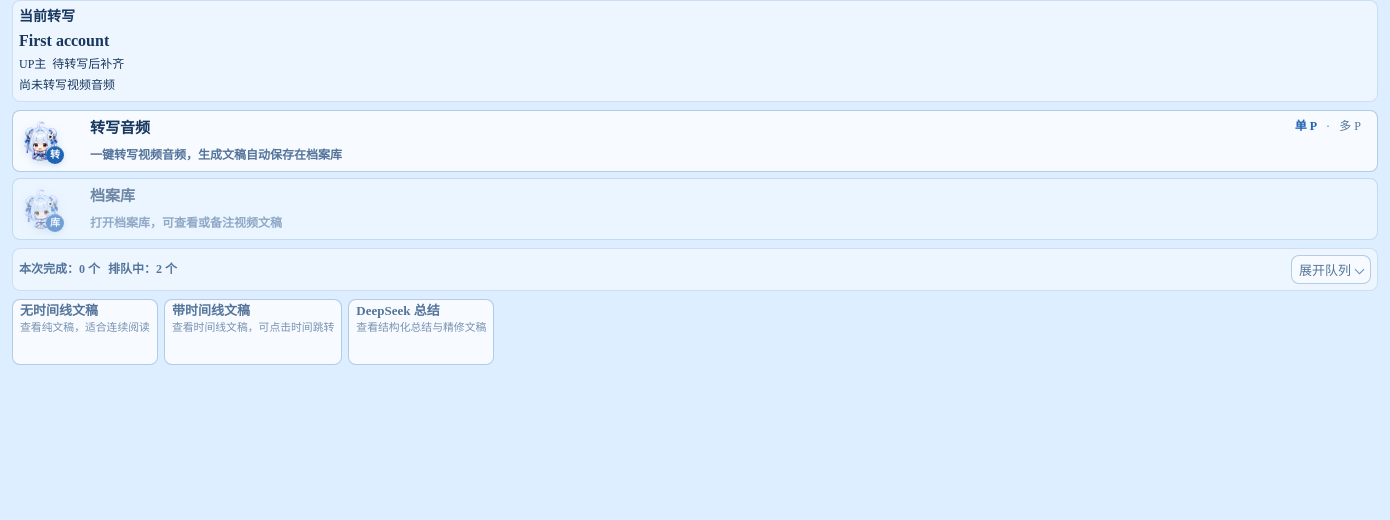
Test case: VideoNotesPanel transcription queue › keeps queue document export disabled when selected work spans accounts
Click the button with aria-label "展开转写队列" at (1331, 269), box top-left (1291, 255), bottom-right (1371, 284)
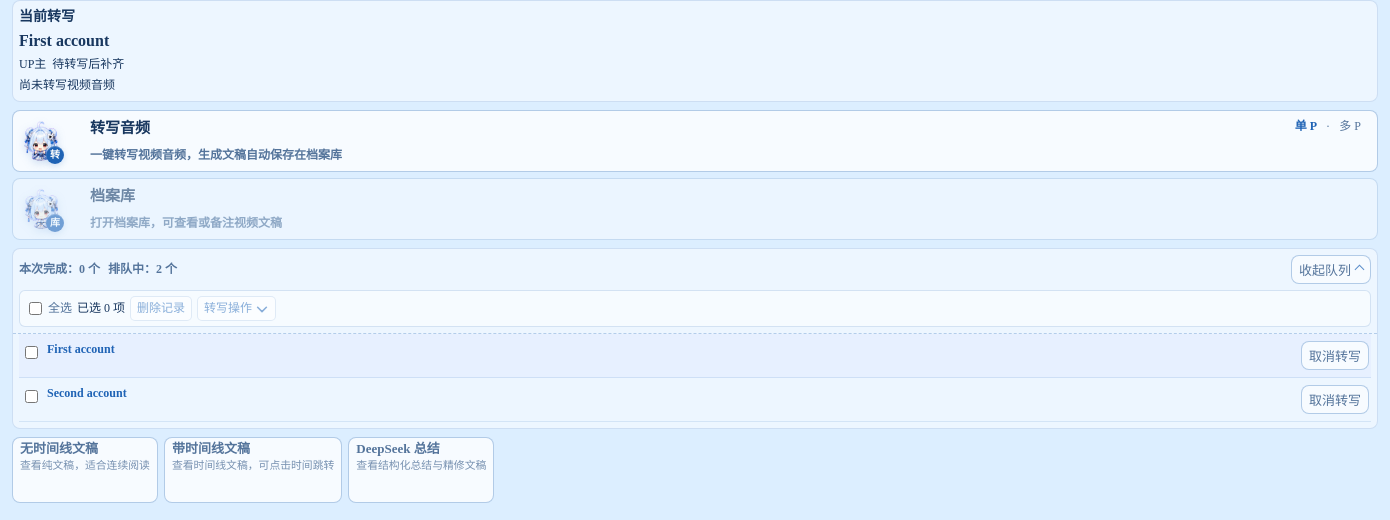
Click the checkbox named "选择 First account" at (32, 353), box top-left (25, 346), bottom-right (38, 359)
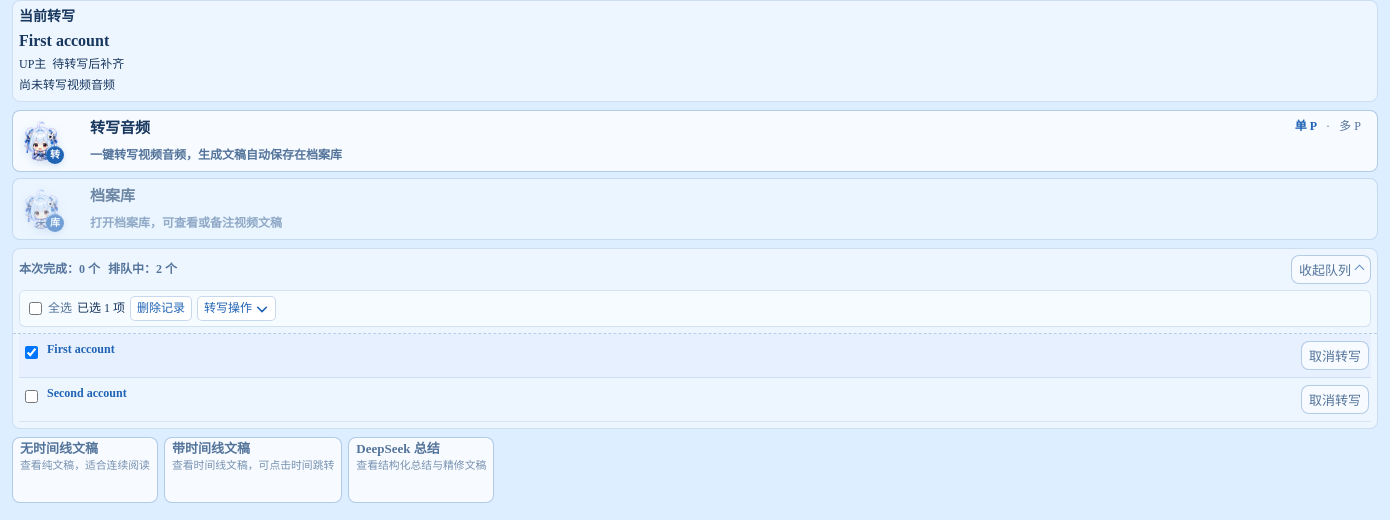
Click the checkbox named "选择 Second account" at (32, 397), box top-left (25, 390), bottom-right (38, 403)
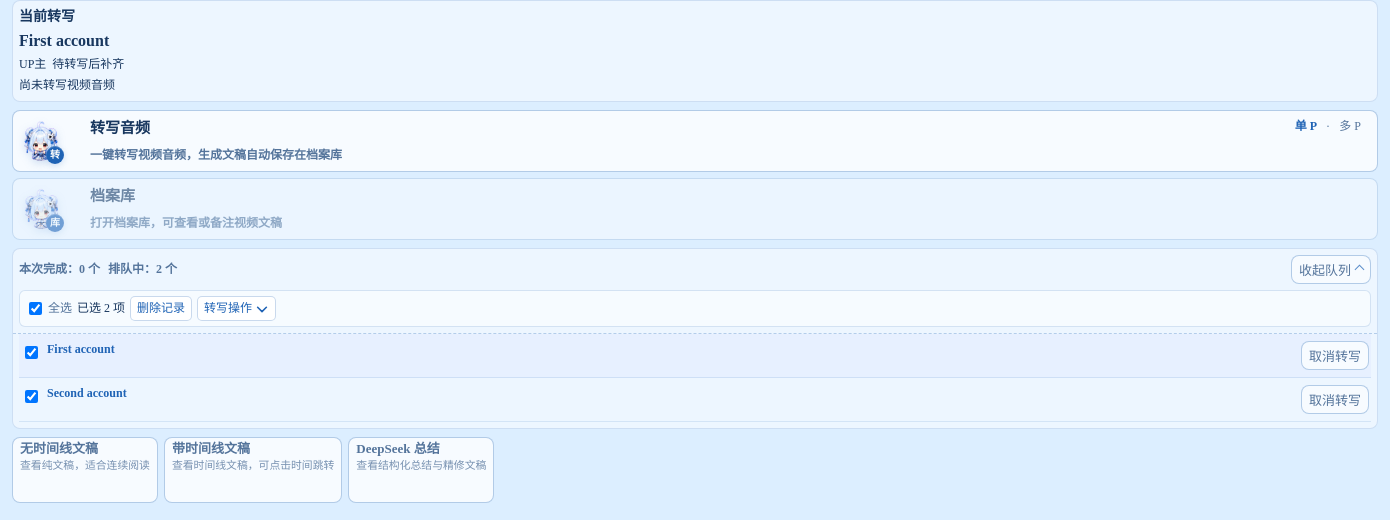
Click the button "转写操作" at (237, 309), box top-left (197, 296), bottom-right (276, 321)
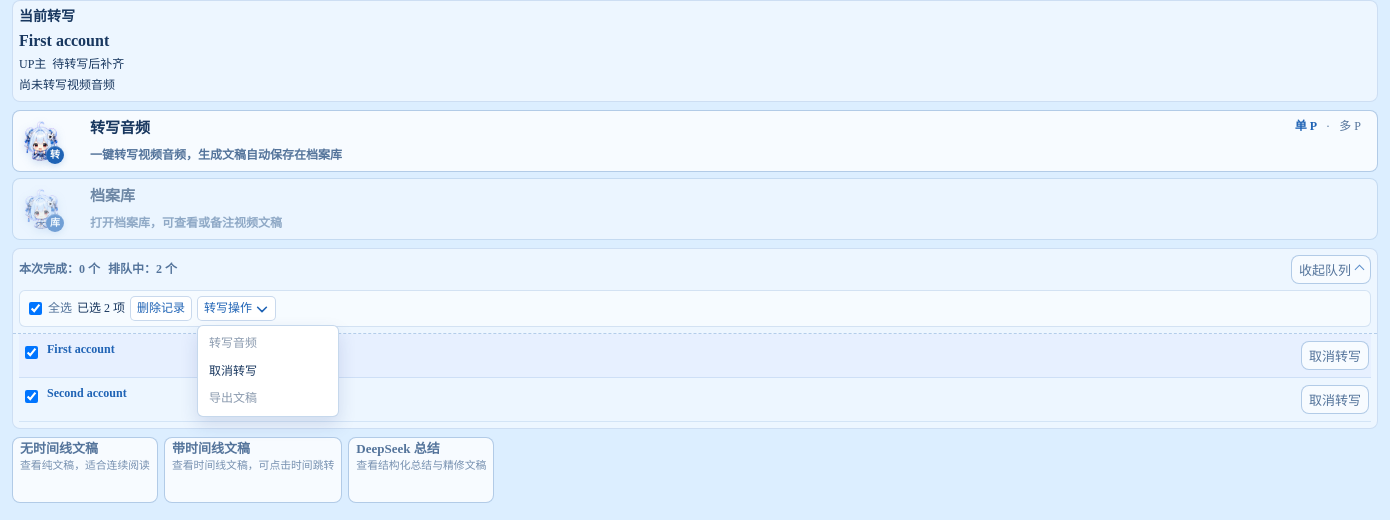
Expected: the menu item "导出文稿" is disabled, top-left (202, 385), bottom-right (334, 412)
